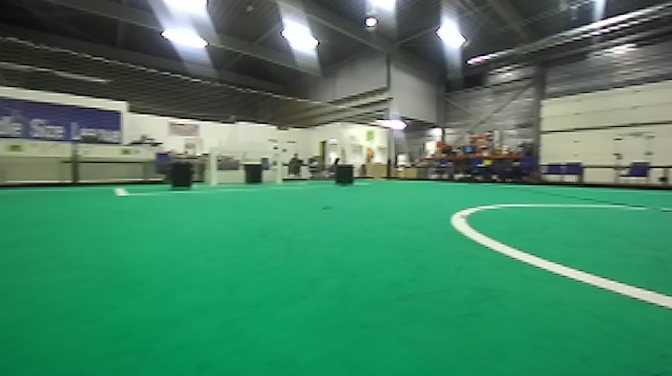goalpost: (208, 144, 221, 185), (270, 140, 282, 184)
